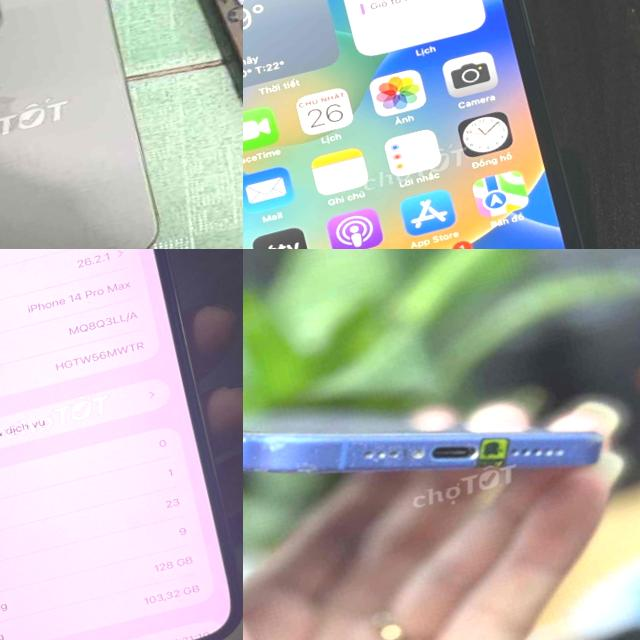gen_14: (0, 249, 243, 640)
gen_15: (0, 0, 206, 249)
gen_16: (243, 418, 602, 473)
gen_x_xs: (243, 0, 640, 249)
scratch: (338, 410, 452, 495), (243, 423, 305, 477), (568, 430, 603, 467), (292, 459, 322, 480), (312, 442, 328, 458)
